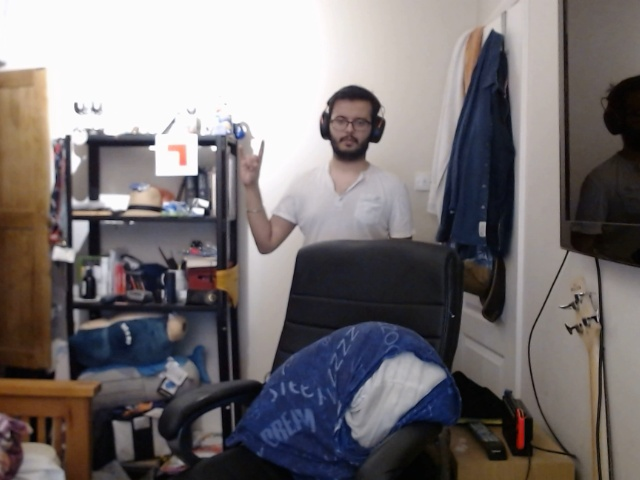Rock on: (227, 137, 272, 207)
